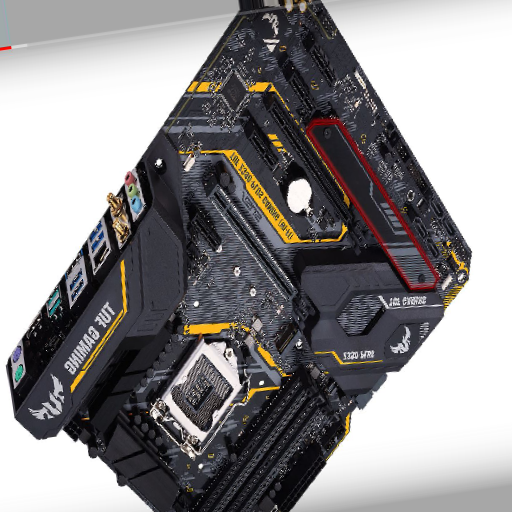CPU: (149, 339, 240, 461)
GPU: (264, 93, 376, 256), (202, 176, 319, 330)
MOTHERBOARD: (7, 4, 472, 512)
RAM: (183, 371, 344, 512)
SSD: (274, 322, 305, 357)
